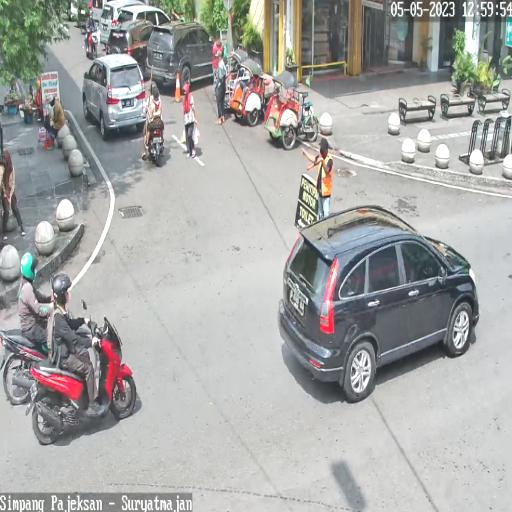mobil: (278, 208, 479, 398), (82, 53, 146, 145), (146, 20, 212, 92)
motor: (31, 309, 135, 448), (0, 281, 57, 406), (141, 96, 165, 168)
